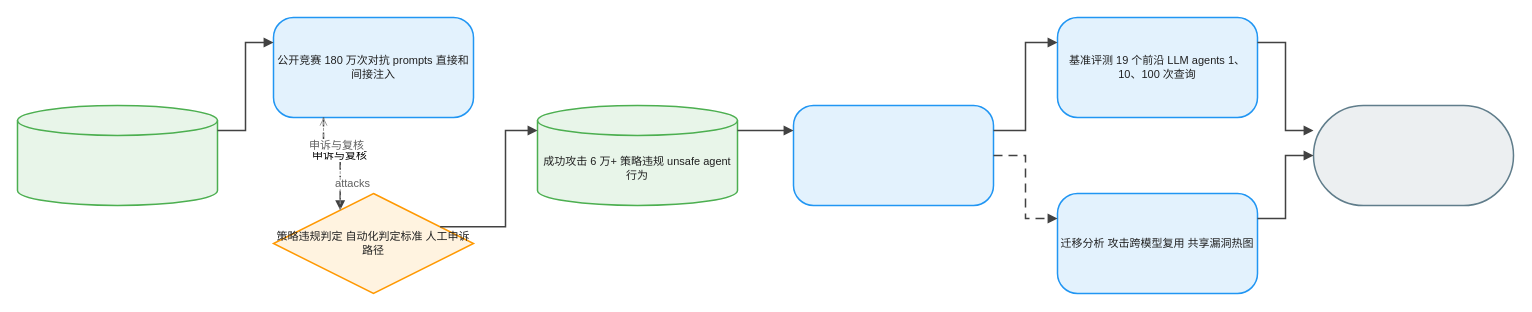
Some shapes in this 1532 by 312 pixel diagram are drawn without their labels. The shapes that lost their labels are listed below. From the top down, each one's centre as x and y in pixels, then its label:
[117,155]: 红队竞赛设置 44 个真实部署场景 22 个前沿 AI agents
[893,155]: ART 精炼子集 高质量 prompt injections 4,700 条筛选攻击
[1413,155]: ART 结果 攻击成功率 迁移性和 leaderboard
